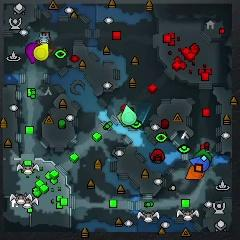p1: (190, 154, 211, 171)
p2: (121, 104, 136, 126)
p3: (25, 43, 42, 65)
p4: (33, 43, 49, 61)
p5: (185, 163, 207, 182)
x2: (116, 110, 125, 125)
x4: (195, 148, 212, 162)
